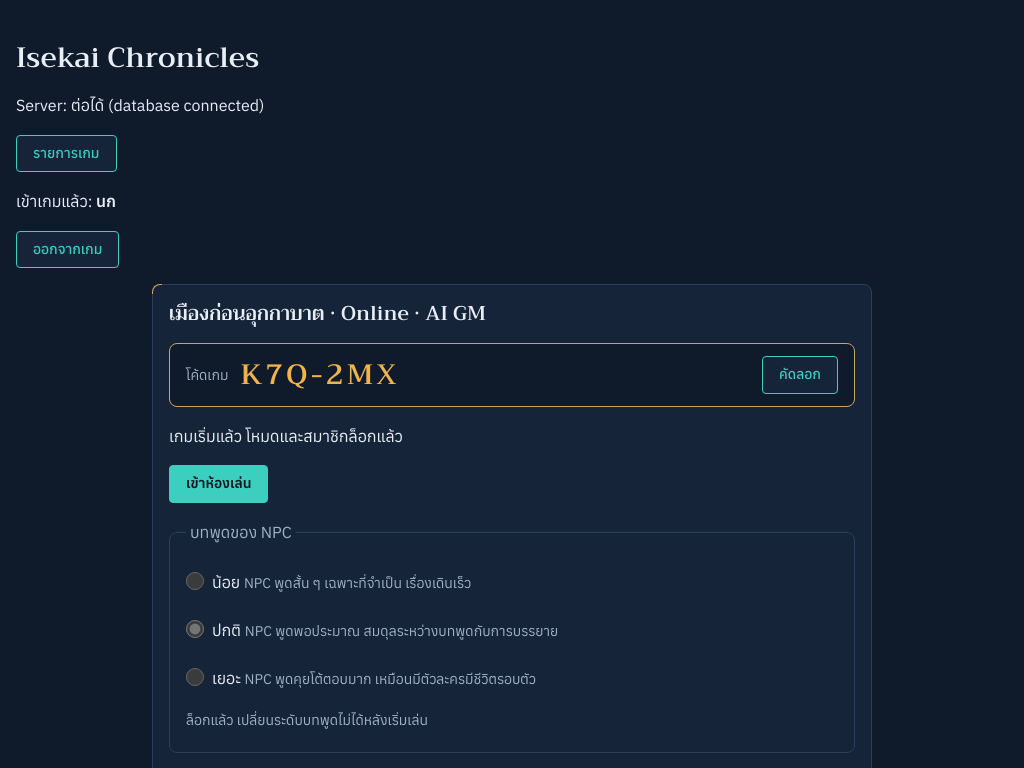
Test: GEN-056 play room (web) › Q-177: a template narration carries the fallback label; the AI GM's own text does not
Click the button "เข้าห้องเล่น". click: click(219, 484)
box: x1=169 y1=465 x2=268 y2=503
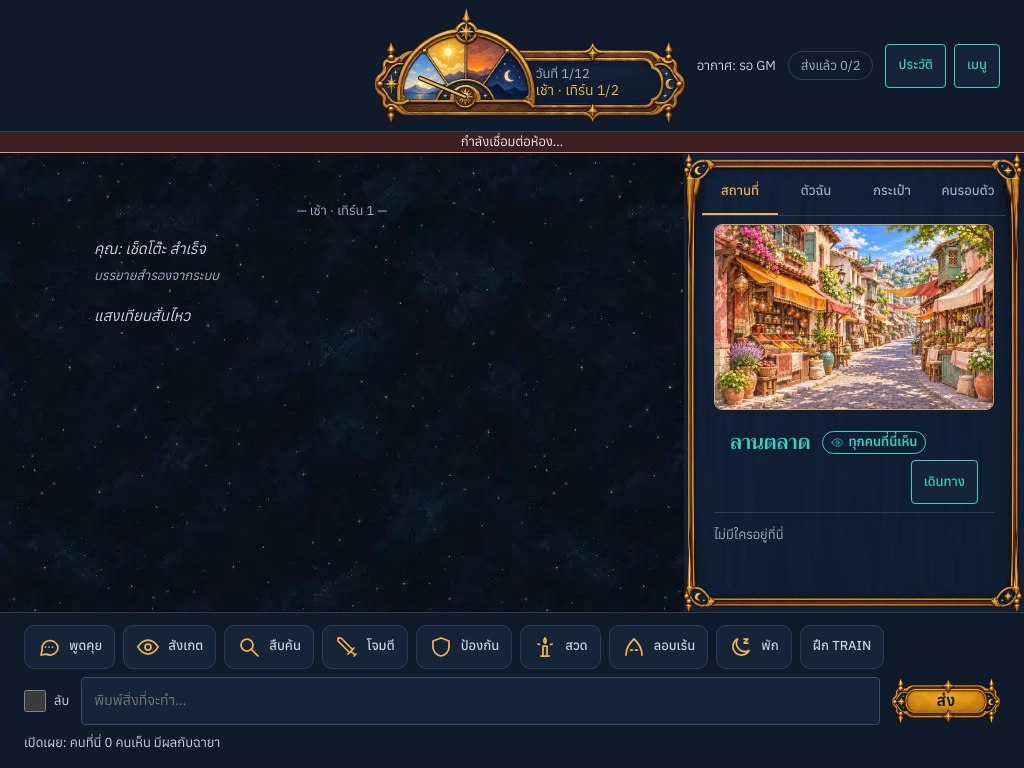
Result: the text "บรรยายสำรองจากระบบ" is shown at x1=94 y1=267 x2=219 y2=284
